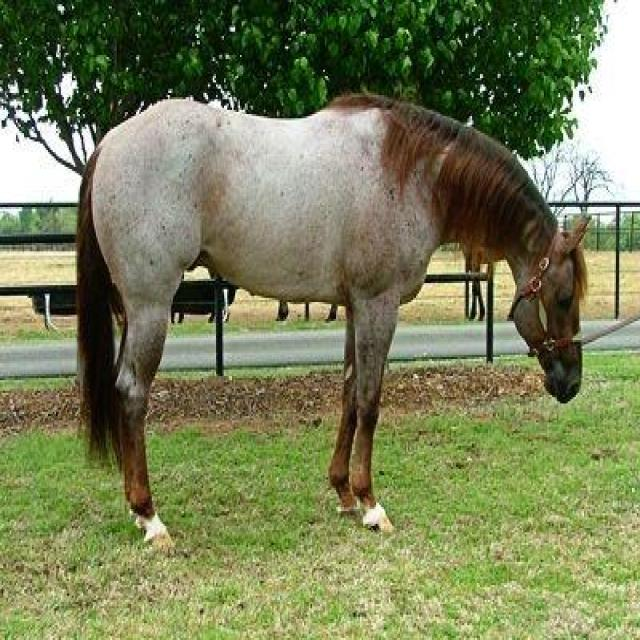horse: (74, 89, 590, 551)
